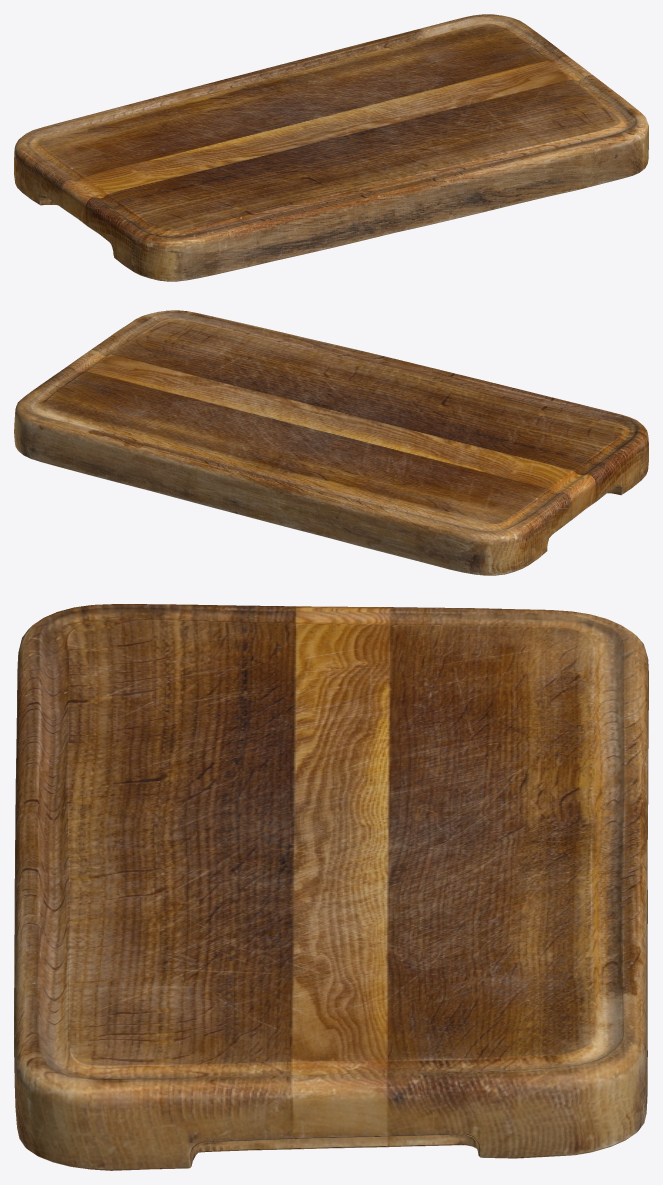
File: wooden_cutting_board.glb
3 views of the same model, one above another, from view 1: azimuth 30°, elevation 25°; view 2: azimuth 150°, elevation 25°; view 3: azimuth 270°, elevation 25° (orthographic). The views are drawn at different scales.
Visible parts, largest first — view 1: wooden_cutting_board; view 2: wooden_cutting_board; view 3: wooden_cutting_board.
Boxes of the visible parts, bbox=[...] form: wooden_cutting_board: bbox=[14, 14, 648, 281]; wooden_cutting_board: bbox=[14, 310, 648, 575]; wooden_cutting_board: bbox=[14, 604, 648, 1170].
Size of the model in its own units: 0.4499 by 0.0413 by 0.2467.
Materials: 1 (1 with a texture image).
